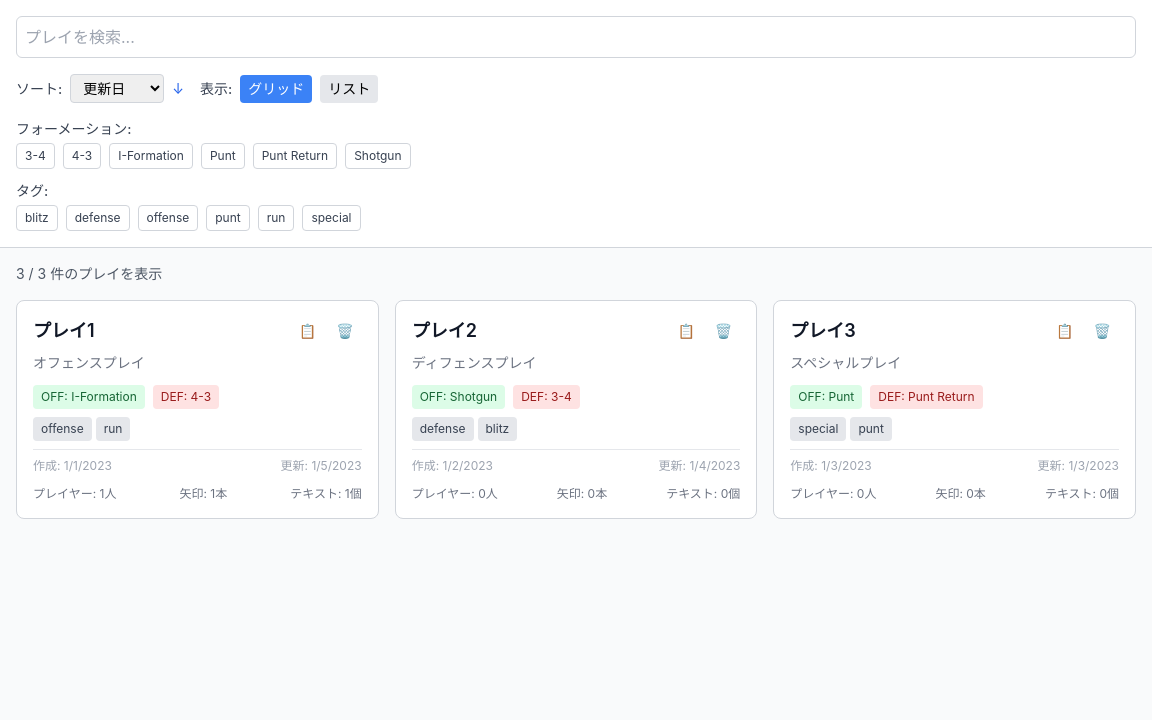
Test case: PlayListView Component › フィルタリング機能 › タグフィルターが正常に動作すること
Click the button "defense". click: (98, 218)
box: [66, 205, 130, 231]
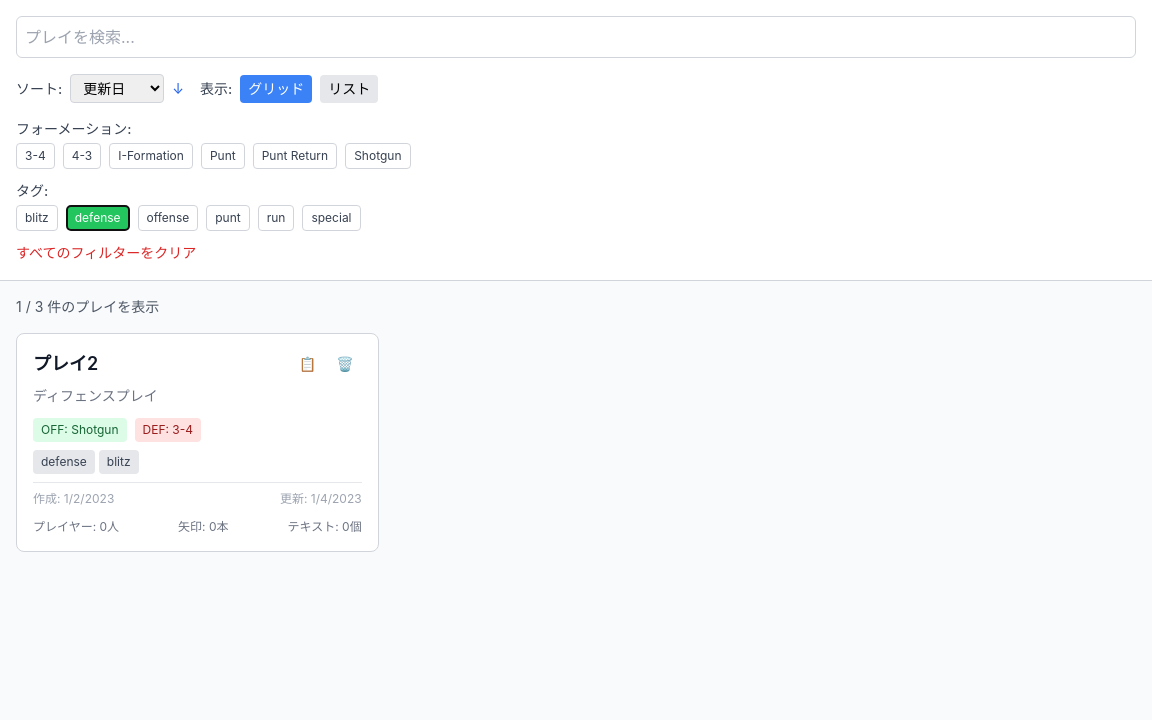
Check: the heading "プレイ2" is shown, box [33, 350, 98, 378]
Check: the heading "プレイ1" is gone
